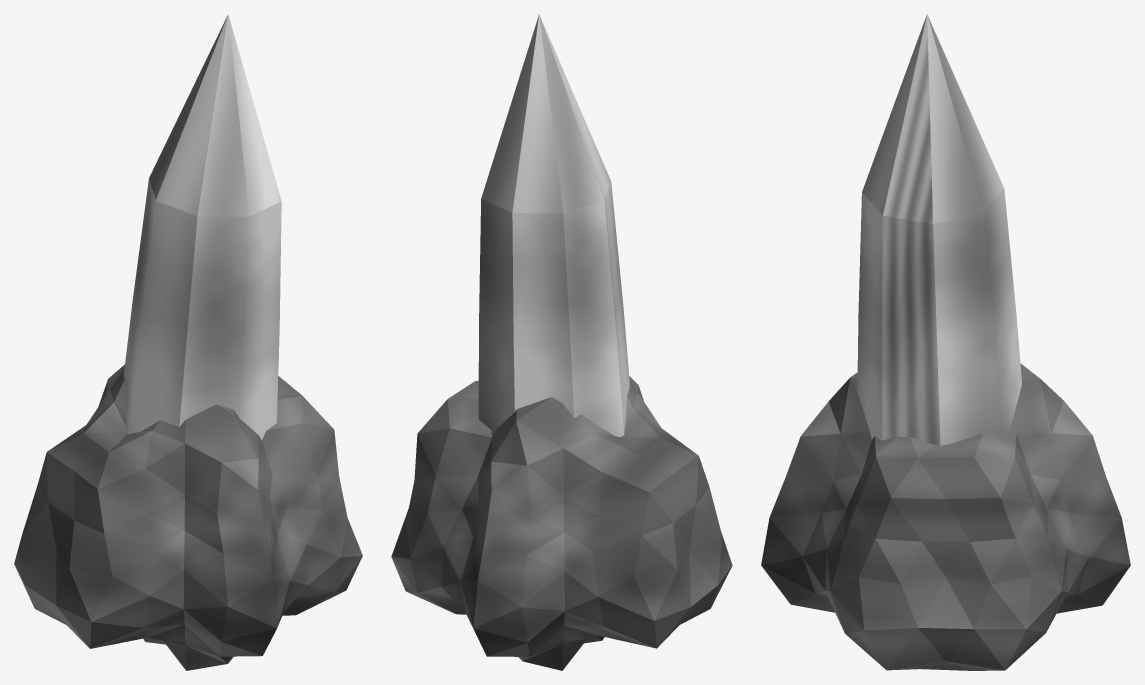
The model's file is earth-simple.glb.
The picture shows the model from 3 angles, left to right: view 1: azimuth 30°, elevation 25°; view 2: azimuth 150°, elevation 25°; view 3: azimuth 270°, elevation 25°; orthographic projection. The views are drawn at different scales.
Visible parts, largest first — view 1: earth-simple; view 2: earth-simple; view 3: earth-simple.
Part boxes in pixels (x1=…): earth-simple: x1=14, y1=14, x2=362, y2=670; earth-simple: x1=391, y1=14, x2=732, y2=670; earth-simple: x1=761, y1=14, x2=1130, y2=670.
Size of the model in its own units: 0.1636 by 0.3478 by 0.1769.
1 material, 1 textured.
